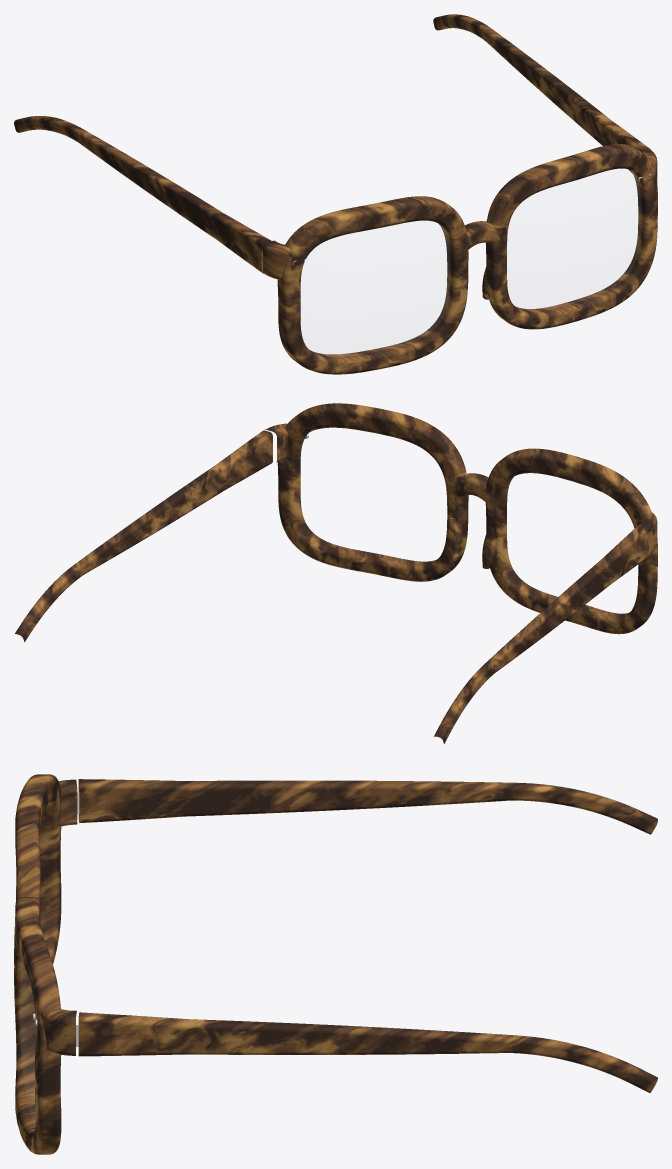
File: r-bold-square-tort.glb
3 views of the same model, one above another, from view 1: azimuth 30°, elevation 25°; view 2: azimuth 150°, elevation 25°; view 3: azimuth 270°, elevation 25° (orthographic). The views are drawn at different scales.
Parts seen in each view (by area): view 1: Frame; view 2: Frame; view 3: Frame.
Part boxes in pixels (bbox=[...]): Frame: bbox=[14, 14, 657, 374]; Frame: bbox=[15, 403, 657, 743]; Frame: bbox=[14, 774, 657, 1154].
Bounding box in the file's own units: 155 × 55.9 × 160.
Materials: 3 (1 with a texture image).
